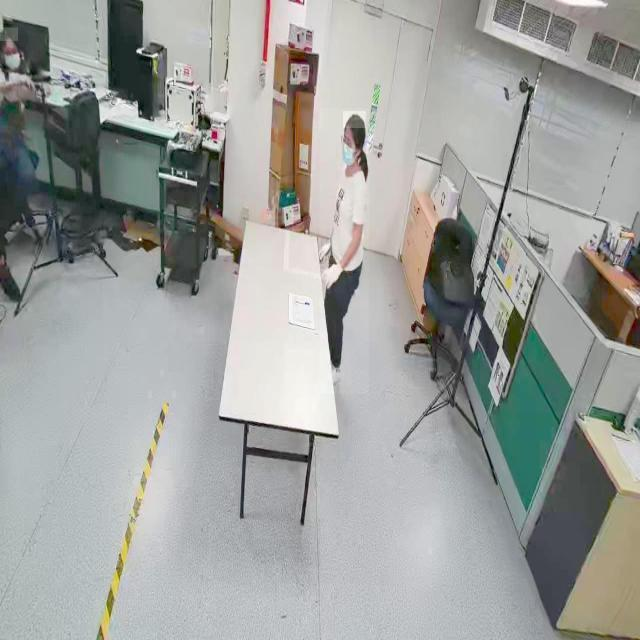face_mask: (338, 124, 358, 180)
hand_glove: (322, 257, 346, 294), (318, 234, 336, 266)
head_nohelmet: (343, 111, 367, 129), (0, 27, 18, 41)
person: (320, 108, 370, 394)
